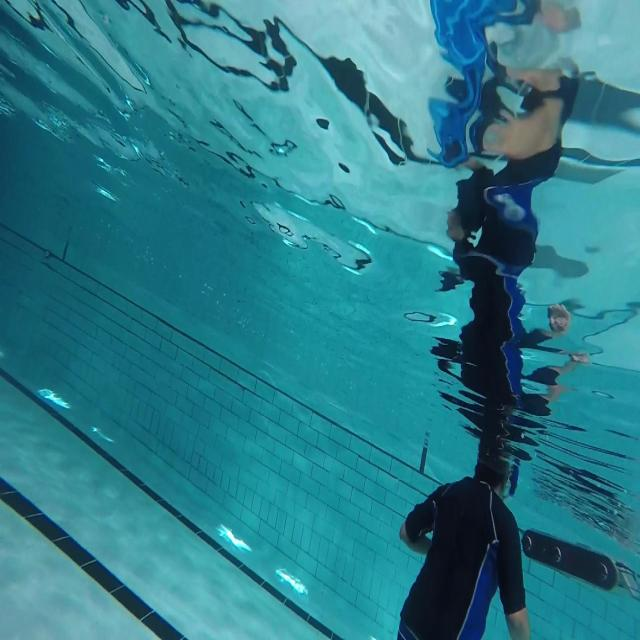human: (396, 433, 531, 638)
